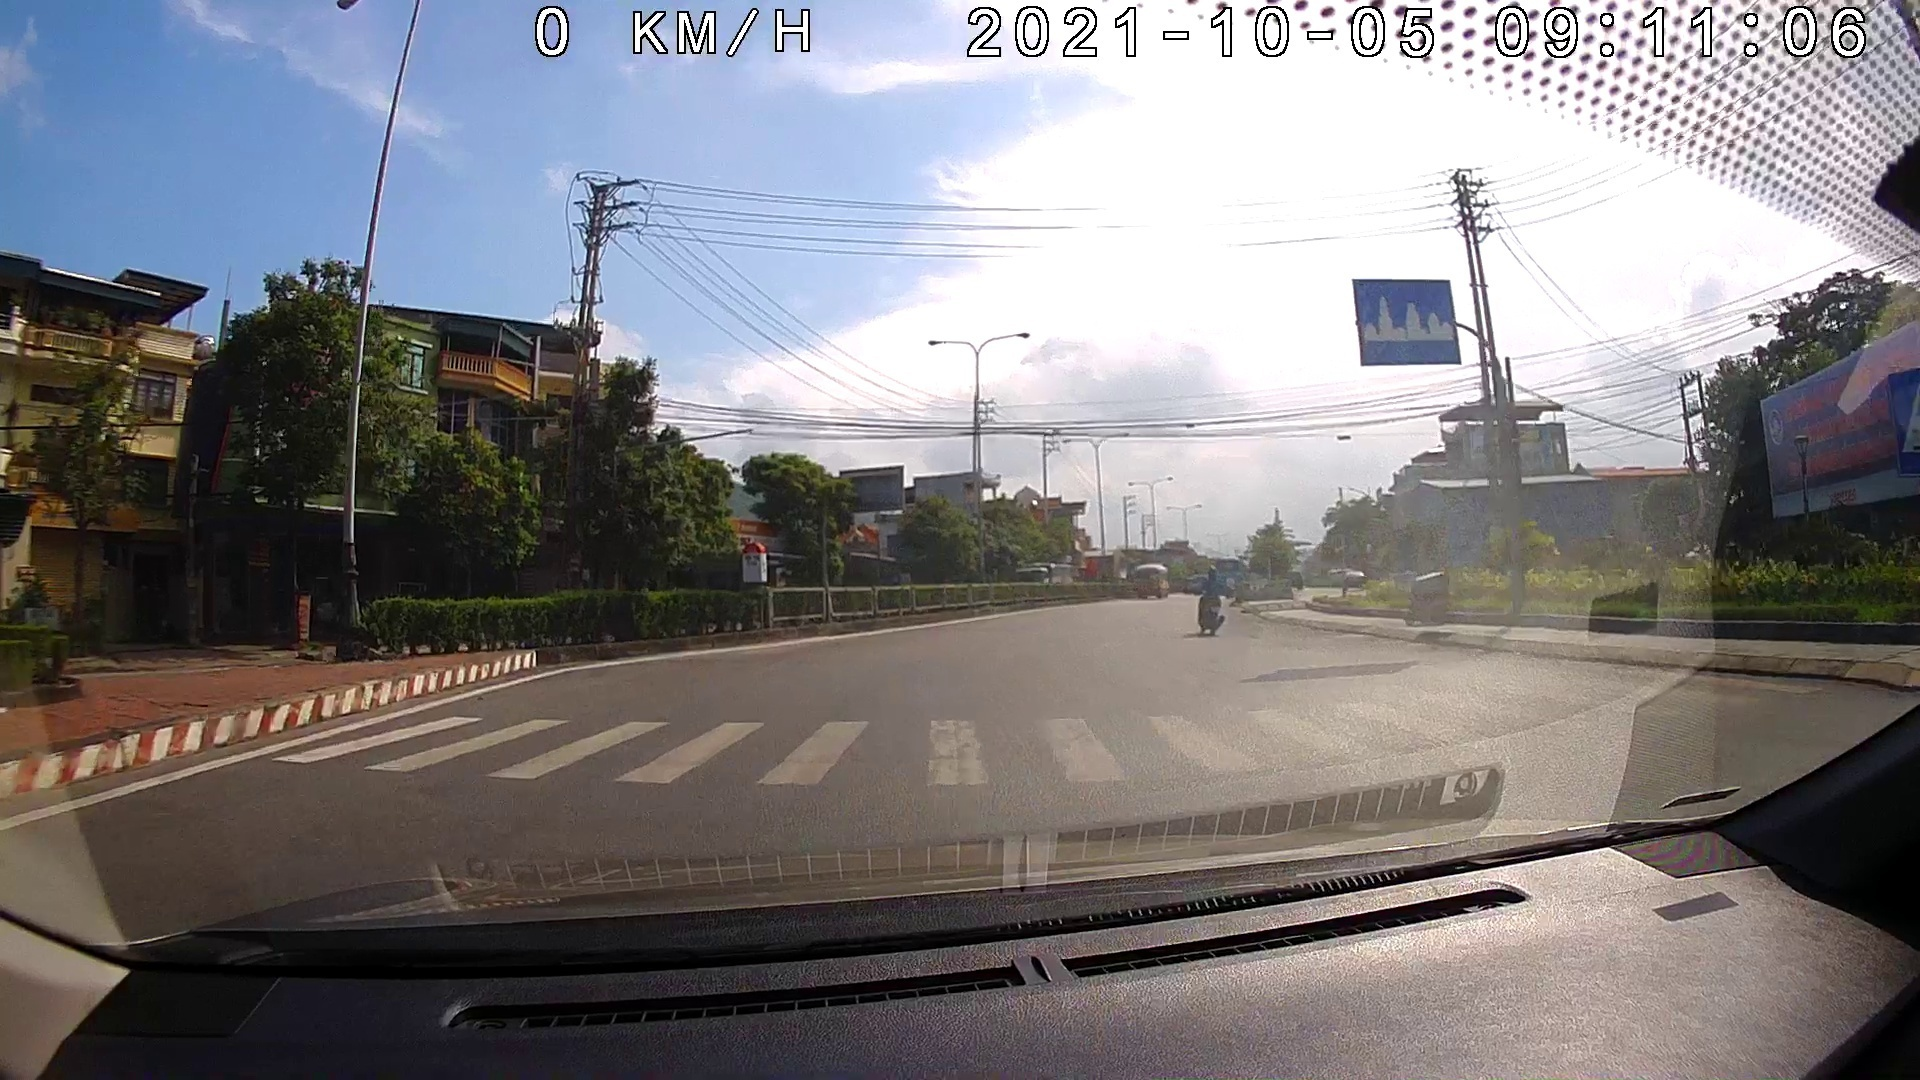Bien khac: (1348, 273, 1461, 369)
